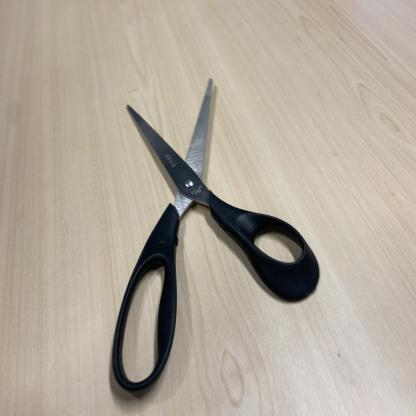scissors: (109, 74, 321, 400)
